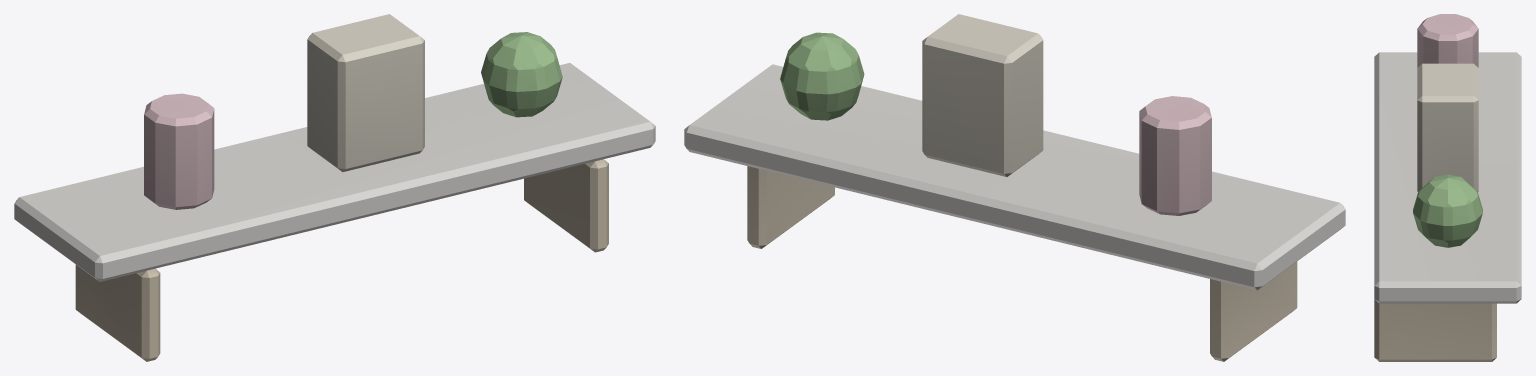
Rendered from furn_wall_shelf__white.glb.
3 renders of one model, left to right at view 1: azimuth 30°, elevation 25°; view 2: azimuth 150°, elevation 25°; view 3: azimuth 270°, elevation 25°, orthographic. The views are drawn at different scales.
Bounding box in the file's own units: 0.9 × 0.36 × 0.24.
